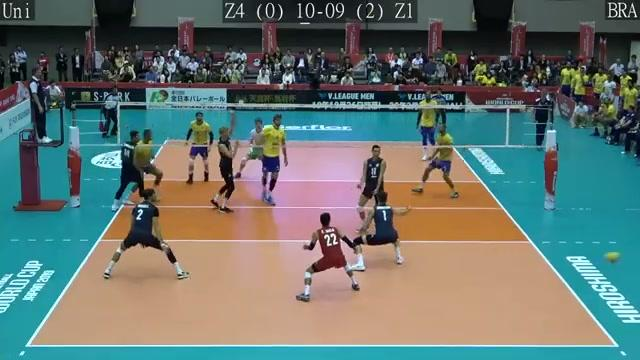ball: (600, 245, 623, 268)
